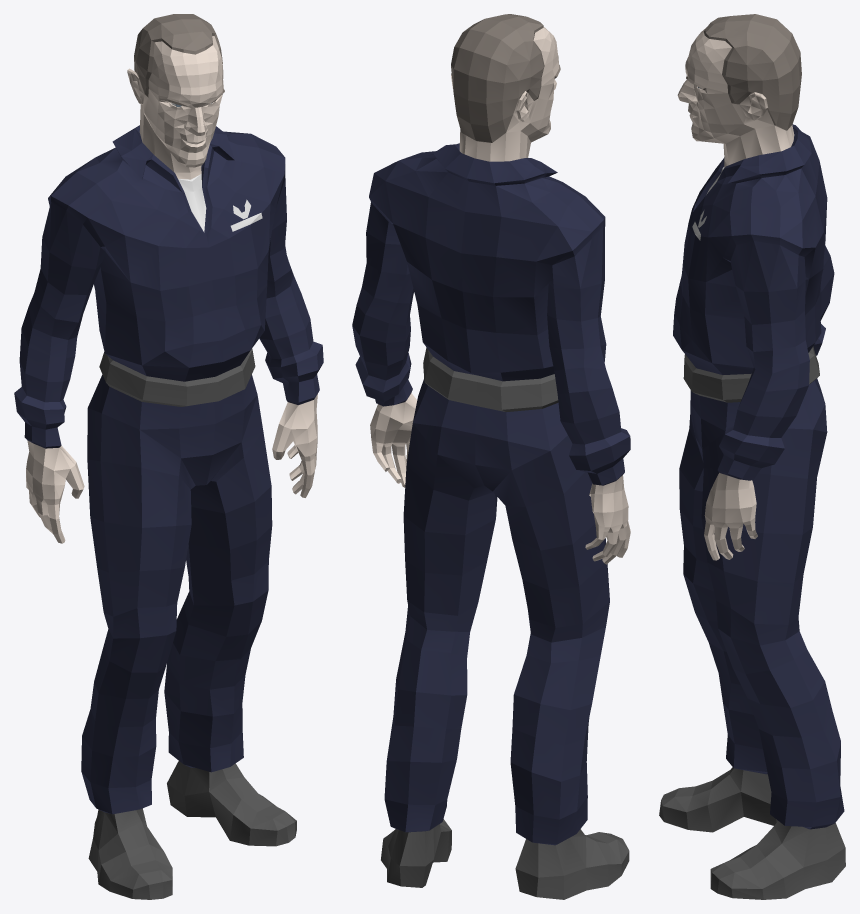
Rendered from man.gltf.
The picture shows the model from 3 angles, left to right: view 1: azimuth 30°, elevation 25°; view 2: azimuth 150°, elevation 25°; view 3: azimuth 270°, elevation 25°; orthographic projection. The views are drawn at different scales.
Parts seen in each view (by area): view 1: Hardy.obj_BlueDar_0, Hardy.obj_BlackMet_0, Hardy.obj_Skin.001_0, Hardy.obj_Hair_0, Hardy.obj_EyeWhites_0; view 2: Hardy.obj_BlueDar_0, Hardy.obj_BlackMet_0, Hardy.obj_Skin.001_0, Hardy.obj_Hair_0; view 3: Hardy.obj_BlueDar_0, Hardy.obj_BlackMet_0, Hardy.obj_Skin.001_0, Hardy.obj_Hair_0.
Boxes of the visible parts, box(x1,y1,x2,y2) form: Hardy.obj_BlueDar_0: box(14, 125, 323, 814); Hardy.obj_BlackMet_0: box(88, 349, 296, 899); Hardy.obj_Skin.001_0: box(26, 36, 317, 543); Hardy.obj_Hair_0: box(134, 14, 224, 106); Hardy.obj_EyeWhites_0: box(171, 103, 262, 232); Hardy.obj_BlueDar_0: box(352, 143, 630, 845); Hardy.obj_BlackMet_0: box(381, 347, 629, 899); Hardy.obj_Skin.001_0: box(370, 27, 630, 564); Hardy.obj_Hair_0: box(451, 14, 560, 142); Hardy.obj_BlueDar_0: box(673, 124, 844, 829); Hardy.obj_BlackMet_0: box(659, 346, 845, 899); Hardy.obj_Skin.001_0: box(677, 27, 794, 560); Hardy.obj_Hair_0: box(686, 14, 801, 130).
Bounding box in the file's own units: 63.61 × 181 × 36.83.
